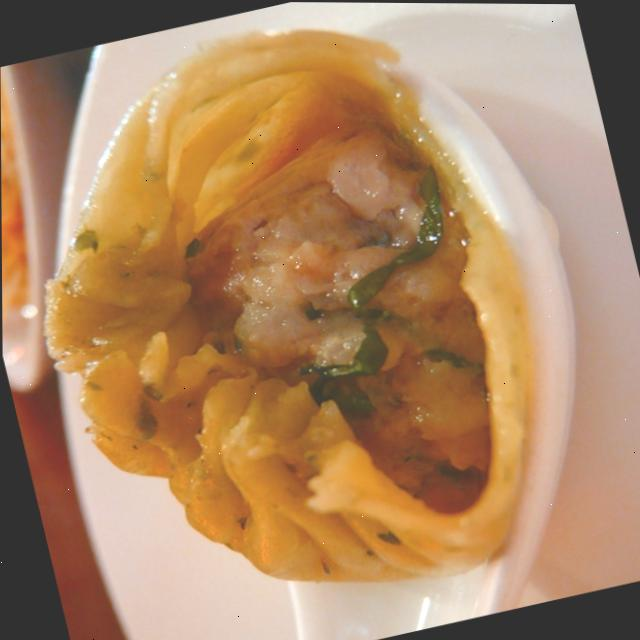带馅早点: (0, 0, 620, 640)
